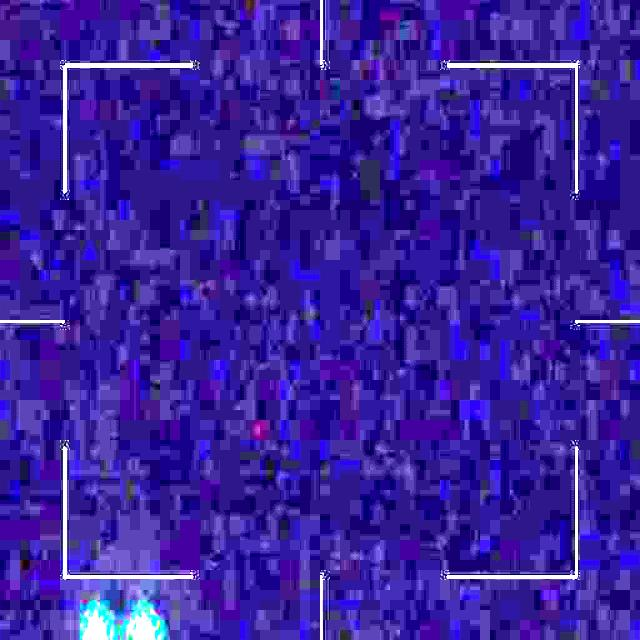bird: (82, 610, 160, 640)
